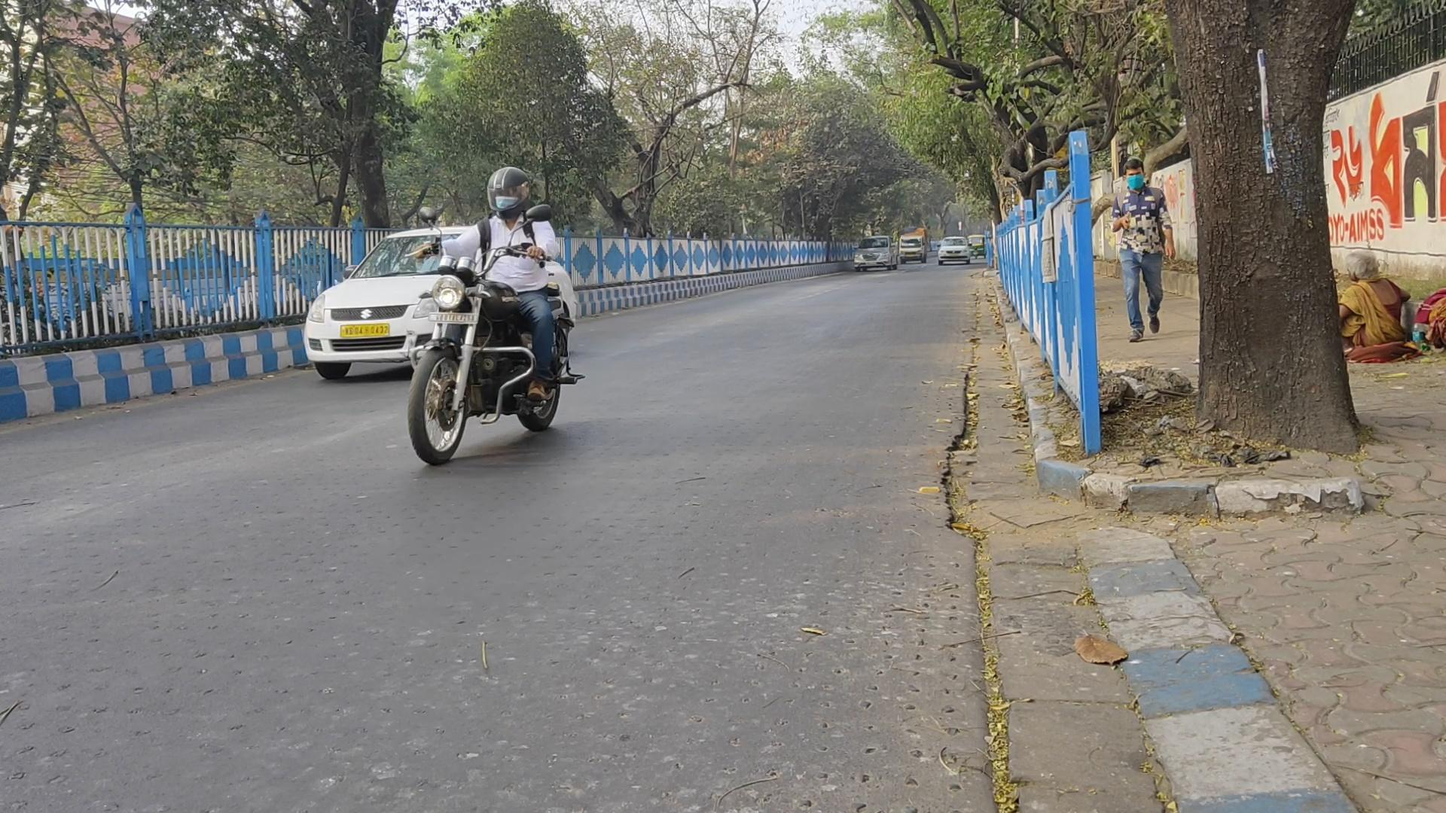bike: (407, 167, 561, 465)
car: (305, 224, 577, 380), (853, 236, 900, 276), (937, 236, 974, 266)
van: (896, 225, 931, 266)
